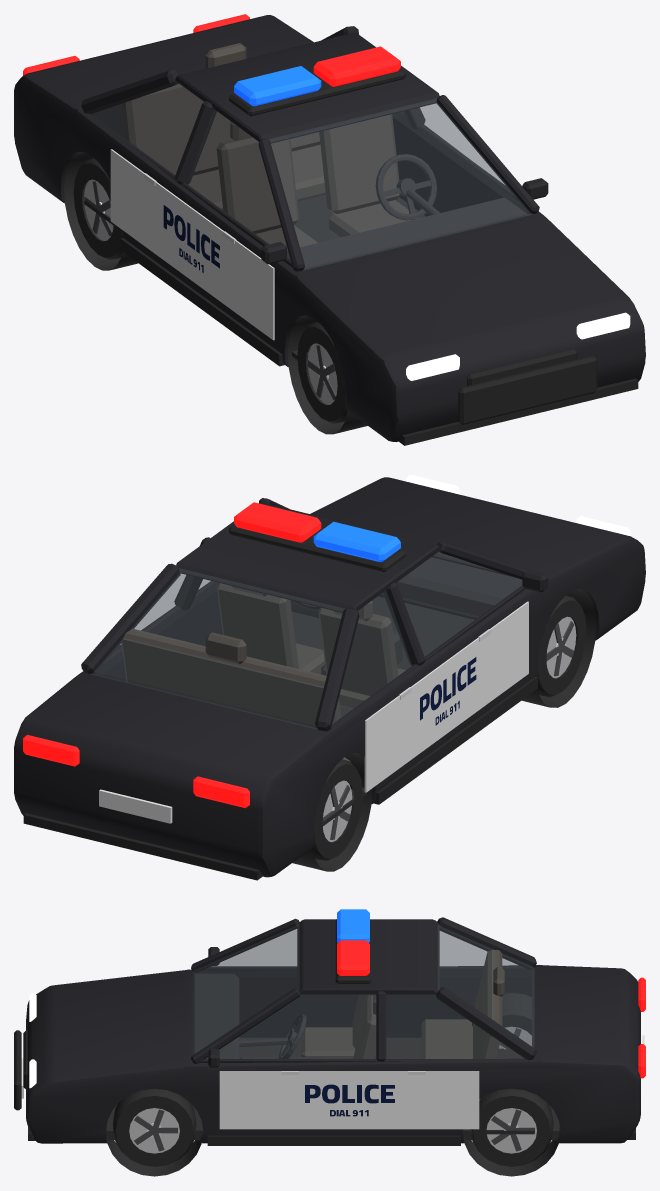
Rendered from police_car_us.glb.
3 renders of one model, top to bottom at view 1: azimuth 30°, elevation 25°; view 2: azimuth 150°, elevation 25°; view 3: azimuth 270°, elevation 25°, orthographic. The views are drawn at different scales.
Visible parts, largest first — view 1: police_car_us_body, glass, wheel_FR, wheel_RR, steering_wheel; view 2: police_car_us_body, glass, wheel_FR, wheel_RR; view 3: police_car_us_body, glass, wheel_FL, wheel_RL, wheel_RR, steering_wheel.
Part boxes in pixels (x1=…): police_car_us_body: x1=14, y1=14, x2=645, y2=445; glass: x1=92, y1=81, x2=533, y2=270; wheel_FR: x1=297, y1=322, x2=347, y2=423; wheel_RR: x1=73, y1=158, x2=122, y2=259; steering_wheel: x1=375, y1=154, x2=436, y2=220; police_car_us_body: x1=14, y1=474, x2=645, y2=880; glass: x1=91, y1=551, x2=521, y2=729; wheel_FR: x1=537, y1=595, x2=586, y2=697; wheel_RR: x1=312, y1=759, x2=362, y2=860; police_car_us_body: x1=14, y1=909, x2=645, y2=1176; glass: x1=193, y1=924, x2=534, y2=1058; wheel_FL: x1=112, y1=1088, x2=196, y2=1166; wheel_RL: x1=470, y1=1088, x2=553, y2=1166; wheel_RR: x1=499, y1=1008, x2=531, y2=1049; steering_wheel: x1=278, y1=1014, x2=306, y2=1058.
Size of the model in its own units: 2.06 by 1.66 by 4.99.
18 materials, 1 textured.
